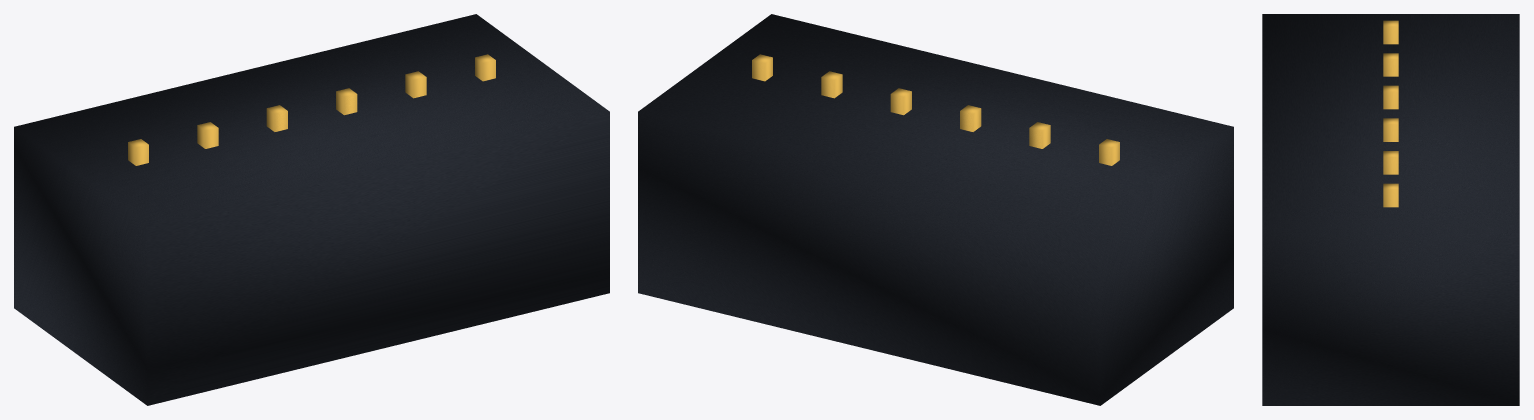
3 views of the same model, side by side, from view 1: azimuth 30°, elevation 25°; view 2: azimuth 150°, elevation 25°; view 3: azimuth 270°, elevation 25° (orthographic). The views are drawn at different scales.
Visible parts, largest first — view 1: L104_J2_black_0__PSMAT__black, L104_J2_gold_1__PSMAT__gold; view 2: L104_J2_black_0__PSMAT__black, L104_J2_gold_1__PSMAT__gold; view 3: L104_J2_black_0__PSMAT__black, L104_J2_gold_1__PSMAT__gold.
Boxes of the visible parts, x1=… form: L104_J2_black_0__PSMAT__black: x1=14, y1=14, x2=609, y2=405; L104_J2_gold_1__PSMAT__gold: x1=128, y1=54, x2=495, y2=165; L104_J2_black_0__PSMAT__black: x1=638, y1=14, x2=1233, y2=405; L104_J2_gold_1__PSMAT__gold: x1=752, y1=54, x2=1119, y2=165; L104_J2_black_0__PSMAT__black: x1=1262, y1=14, x2=1519, y2=405; L104_J2_gold_1__PSMAT__gold: x1=1383, y1=20, x2=1398, y2=207.
Size of the model in its own units: 0.012 by 0.00495 by 0.006.
2 materials, 2 textured.
